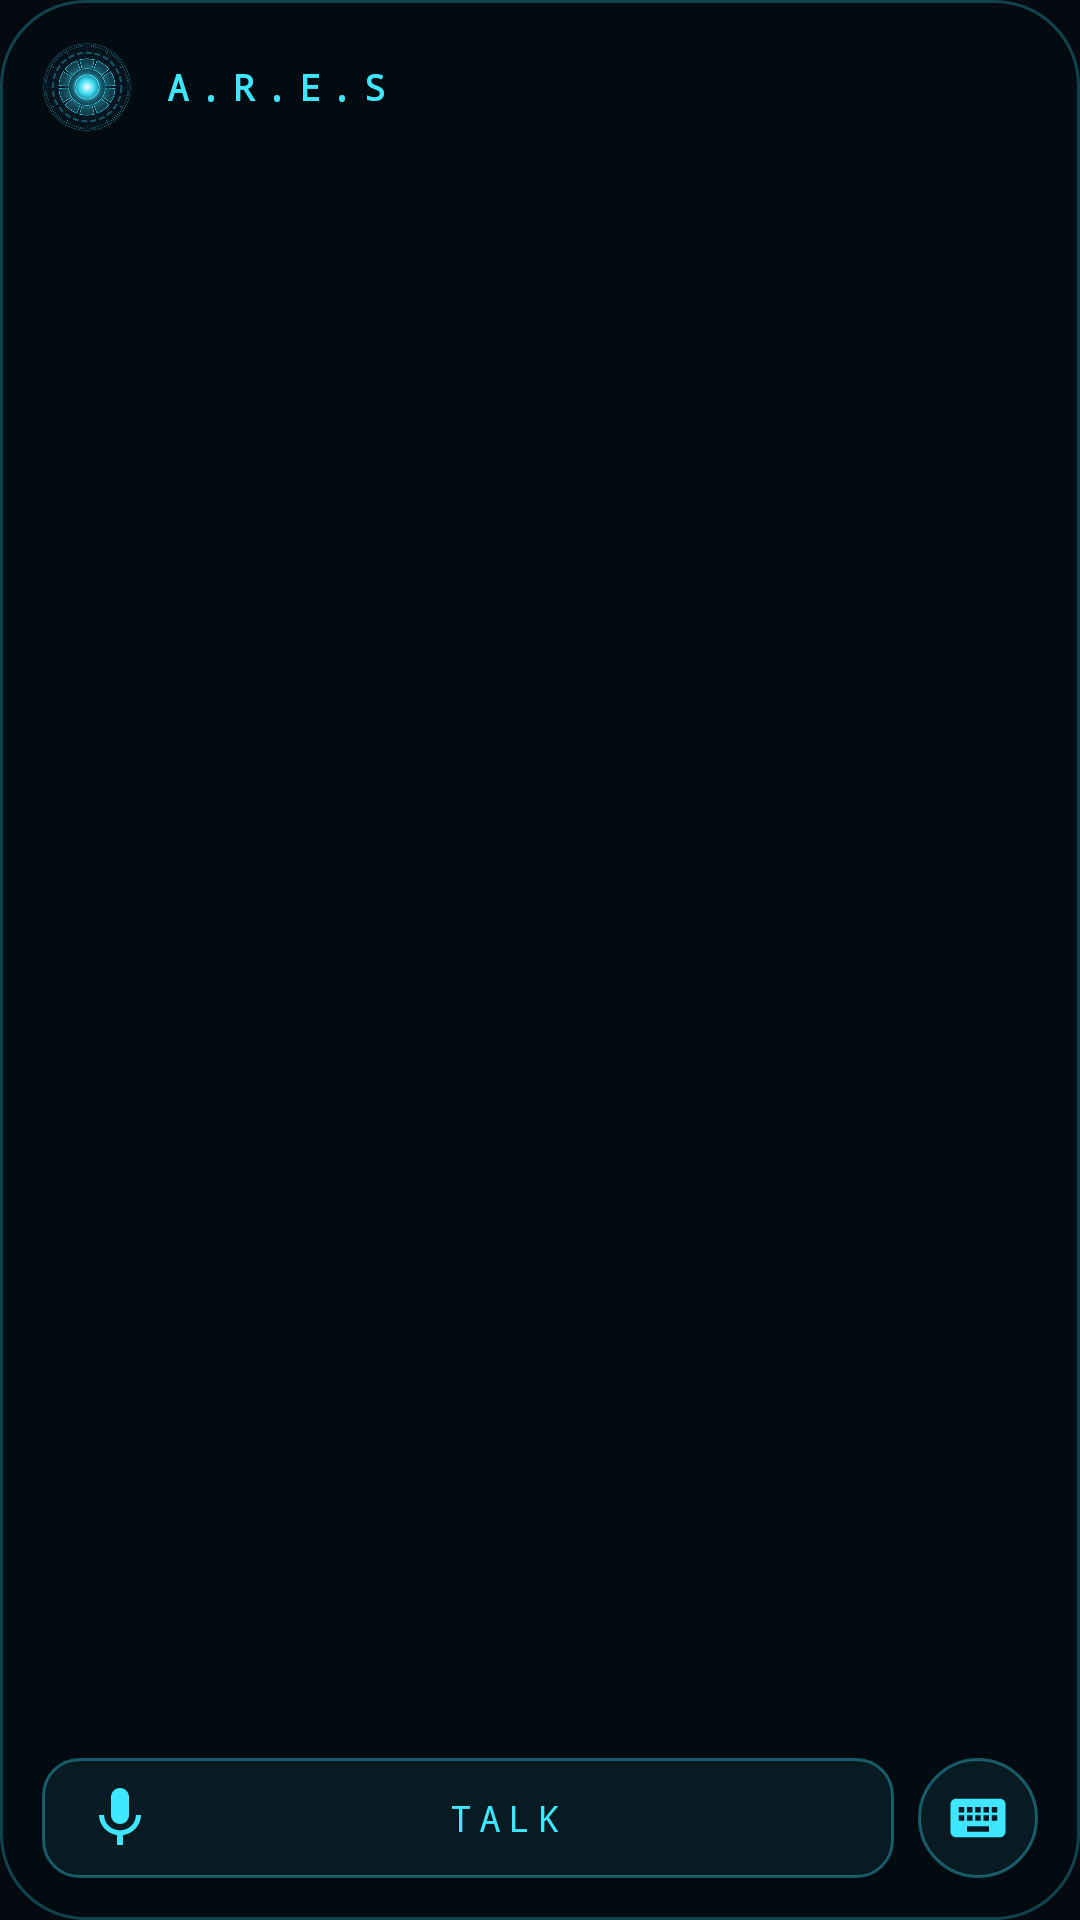

Icons on this 1080px×1920px Android screen, each with its box as (left=x1, top=y1, right=x2, bottom=y2):
Type: (left=918, top=1758, right=1038, bottom=1878)
